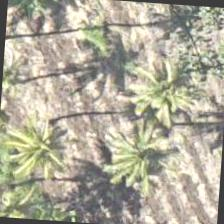Kelapa_Sawit: (104, 32, 200, 128), (4, 0, 84, 55)
